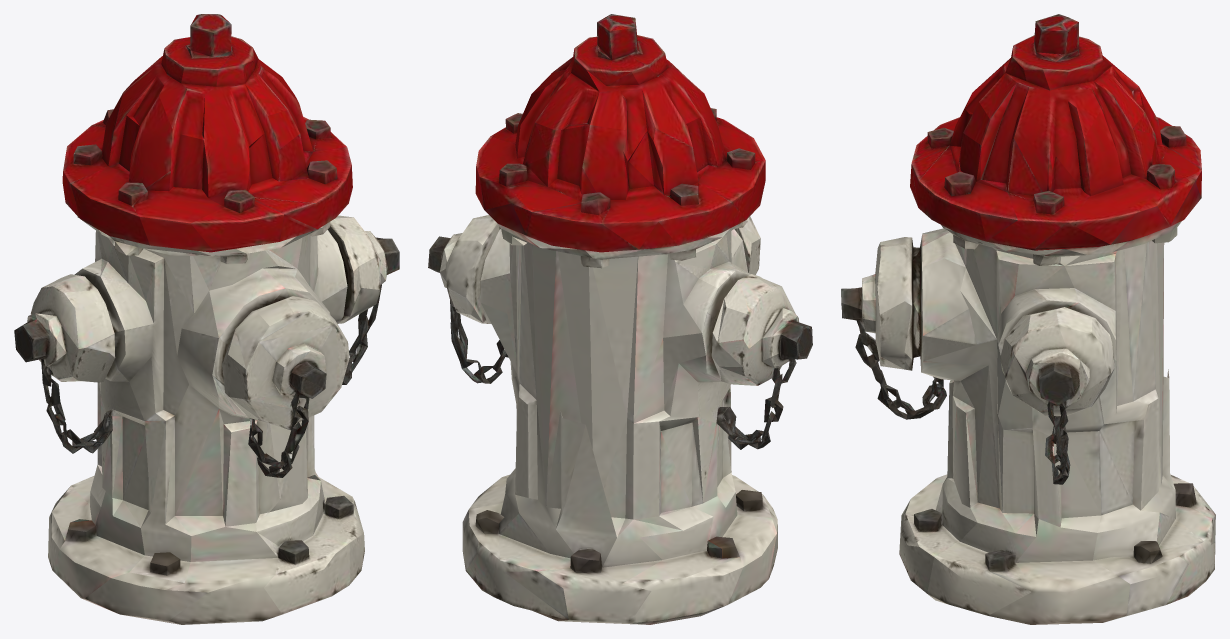
Rendered from hydrant.glb.
3 renders of one model, left to right at view 1: azimuth 30°, elevation 25°; view 2: azimuth 150°, elevation 25°; view 3: azimuth 270°, elevation 25°, orthographic.
Bounding box in the file's own units: 1.35 × 1.9 × 1.19.
1 material, 1 textured.
